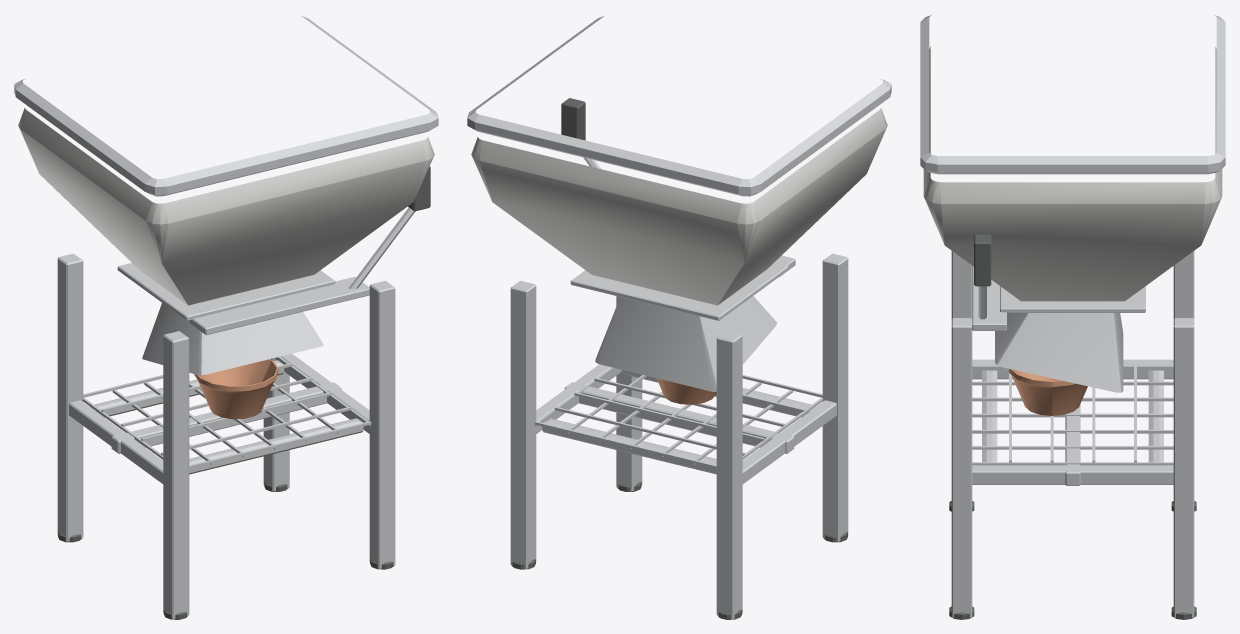
The model's file is garden-centre-and-florist-soil-hopper-3561281b__17741.glb.
3 views of the same model, side by side, from view 1: azimuth 30°, elevation 25°; view 2: azimuth 150°, elevation 25°; view 3: azimuth 270°, elevation 25° (orthographic). The views are drawn at different scales.
Parts seen in each view (by area): view 1: soil-hopper; view 2: soil-hopper; view 3: soil-hopper.
Part boxes in pixels (bbox=[...]): soil-hopper: bbox=[14, 16, 438, 619]; soil-hopper: bbox=[467, 16, 891, 619]; soil-hopper: bbox=[920, 15, 1225, 619].
Bounding box in the file's own units: 1.06 × 1.51 × 0.88.
